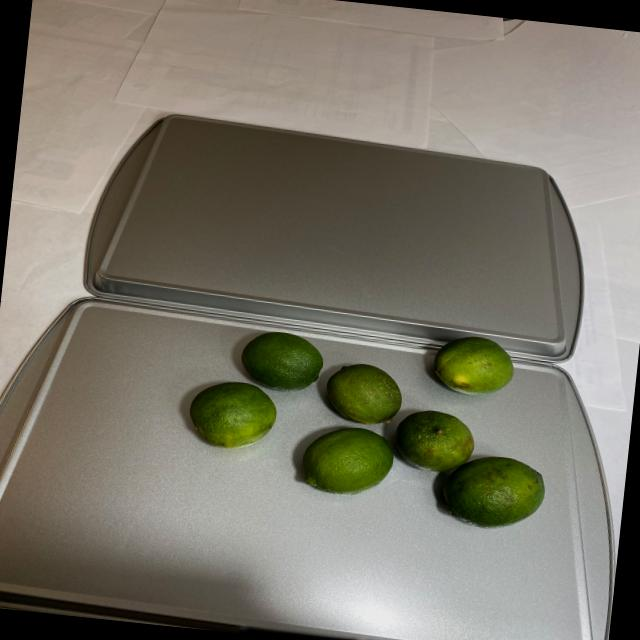lemon: (182, 307, 564, 530)
